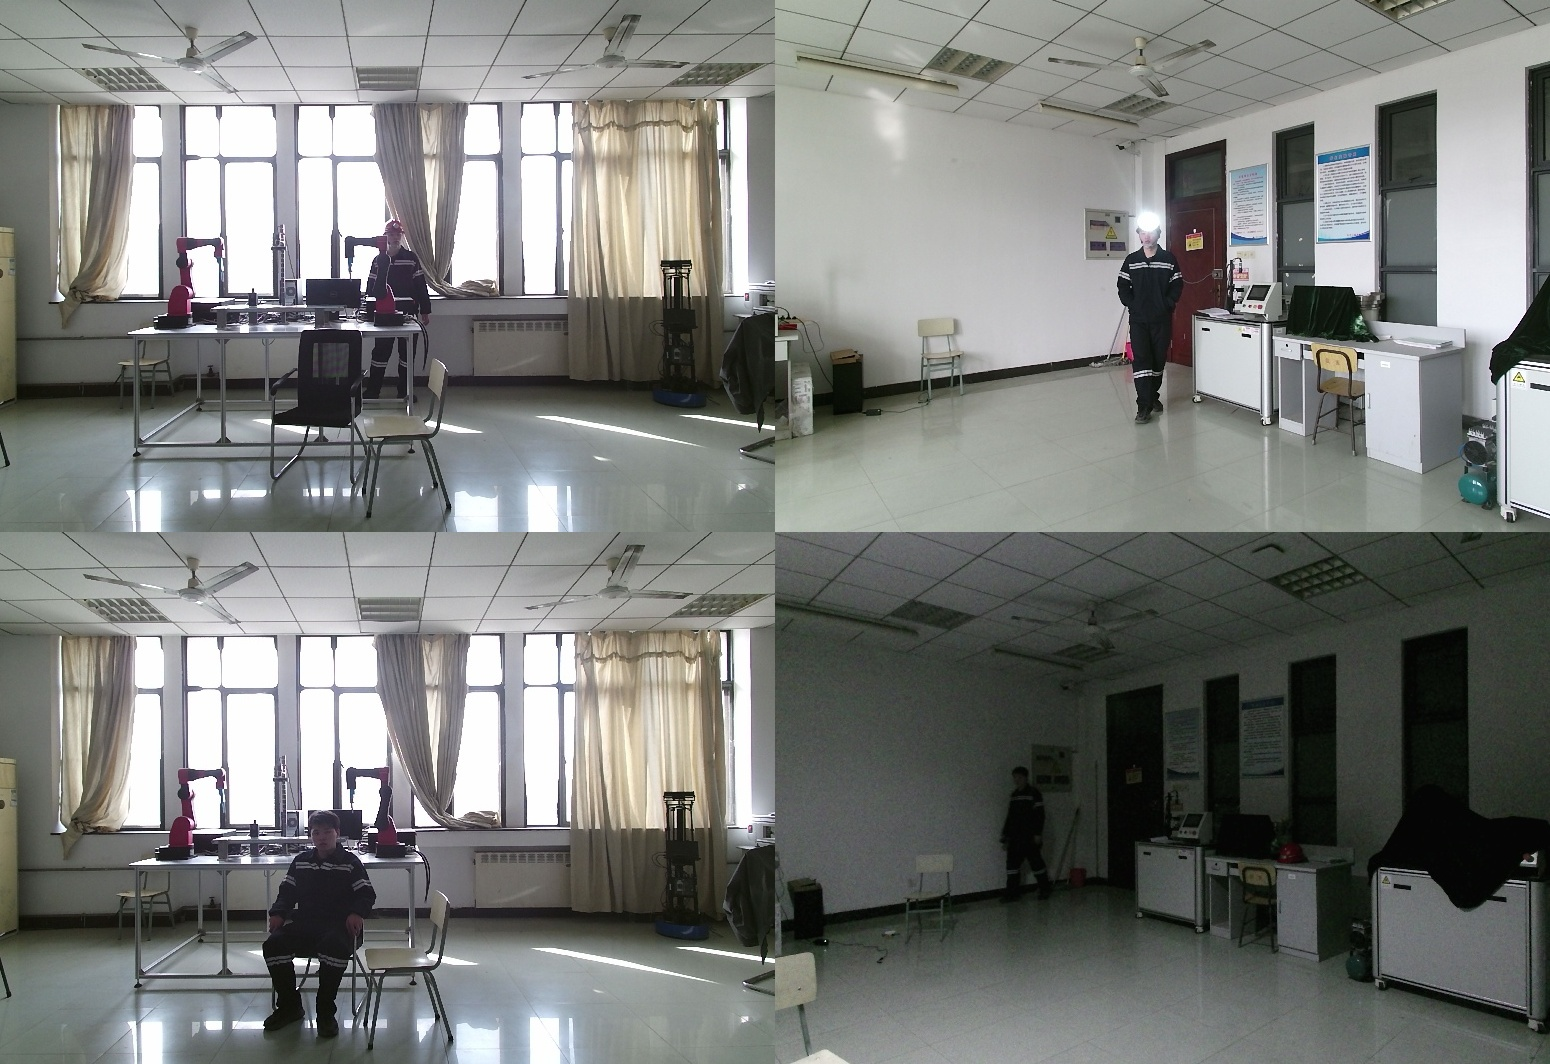person: (261, 812, 383, 1030), (1114, 221, 1189, 429), (363, 220, 431, 400), (1001, 769, 1052, 906)
